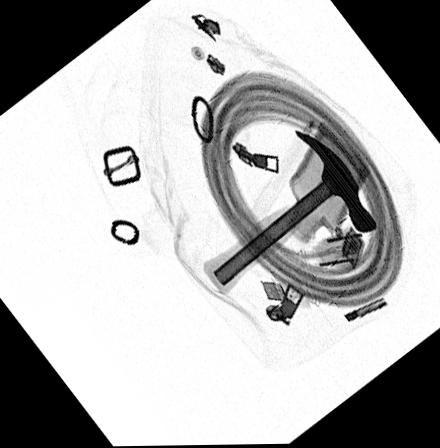Hammer: (202, 128, 377, 294)
